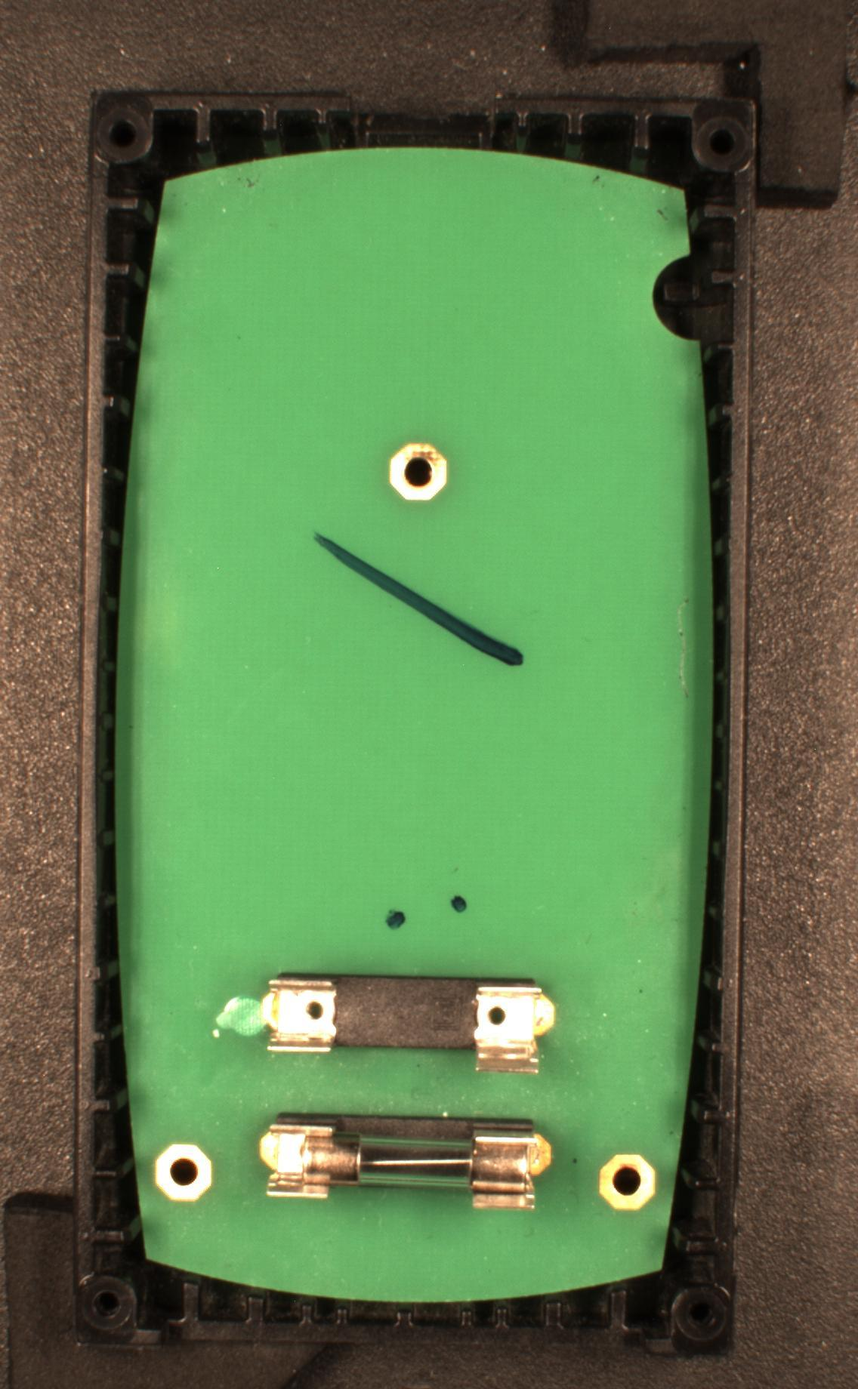Linijsko Ostecene: (310, 531, 526, 669)
Nepostojanje osiguraca: (260, 969, 557, 1077)
Tockasto Ostecenje: (382, 906, 411, 932), (450, 891, 471, 919)
